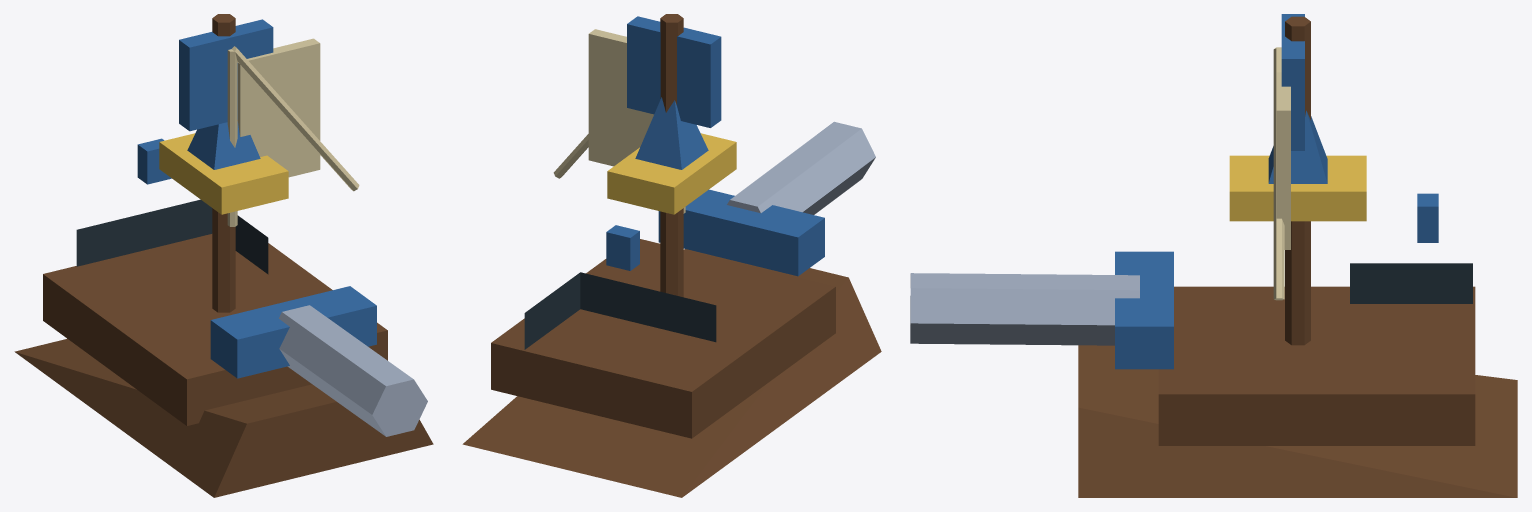
File: light-warship.obj
3 renders of one model, left to right at view 1: azimuth 30°, elevation 25°; view 2: azimuth 150°, elevation 25°; view 3: azimuth 270°, elevation 25°, orthographic. The views are drawn at different scales.
Visible parts, largest first — view 1: ship; view 2: ship; view 3: ship.
Boxes of the visible parts, box(x1,y1,x2,y2) form: ship: box(14, 14, 433, 497); ship: box(462, 14, 881, 497); ship: box(910, 14, 1517, 497).
Bounding box in the file's own units: 1.27 × 1.95 × 2.57.
